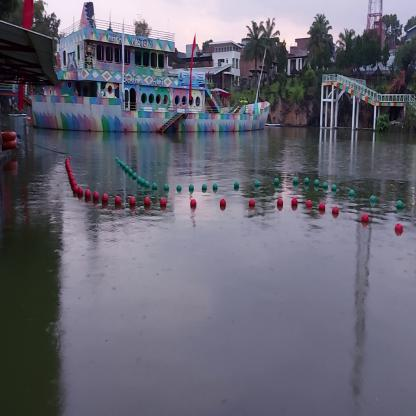green_buoy: (396, 198, 403, 212), (292, 176, 299, 187), (274, 176, 280, 188), (369, 195, 376, 205), (314, 181, 320, 190), (213, 183, 218, 193), (164, 184, 169, 194), (189, 184, 194, 194), (177, 184, 182, 194), (152, 182, 158, 190), (305, 177, 310, 186), (254, 180, 259, 189), (234, 182, 239, 191), (349, 189, 354, 198), (202, 183, 206, 193), (331, 184, 336, 192), (324, 182, 328, 191), (145, 180, 149, 186)
red_buoy: (396, 223, 404, 238), (114, 195, 122, 209), (318, 204, 325, 216), (362, 213, 368, 226), (77, 186, 84, 197), (93, 189, 99, 200), (129, 196, 135, 207), (291, 198, 297, 209), (306, 199, 312, 210), (190, 198, 197, 207), (102, 194, 108, 204), (145, 196, 150, 208), (220, 199, 226, 208), (277, 199, 283, 208), (249, 201, 255, 210), (333, 206, 338, 216), (160, 197, 166, 204), (86, 189, 90, 198)
